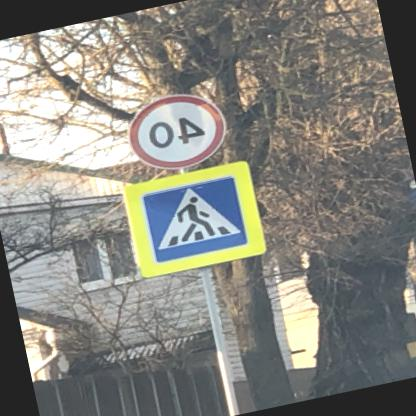crosswalk: (139, 171, 251, 263)
speedlimit: (124, 84, 233, 174)
